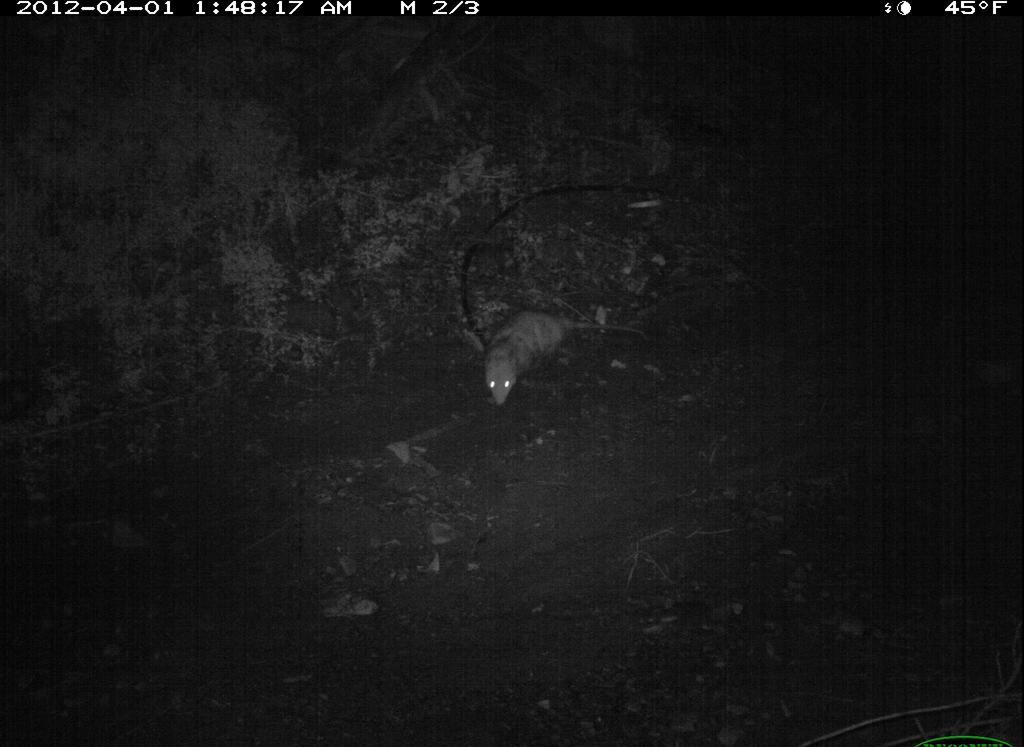opossum: (482, 303, 649, 409)
